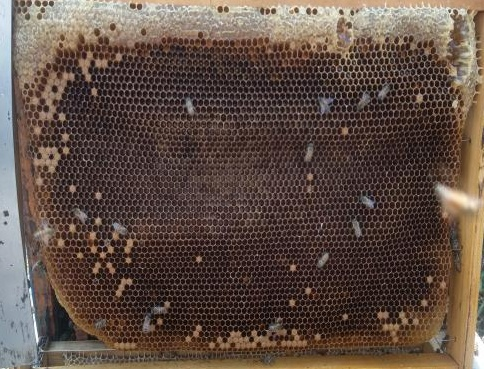cria: (23, 48, 457, 349)
